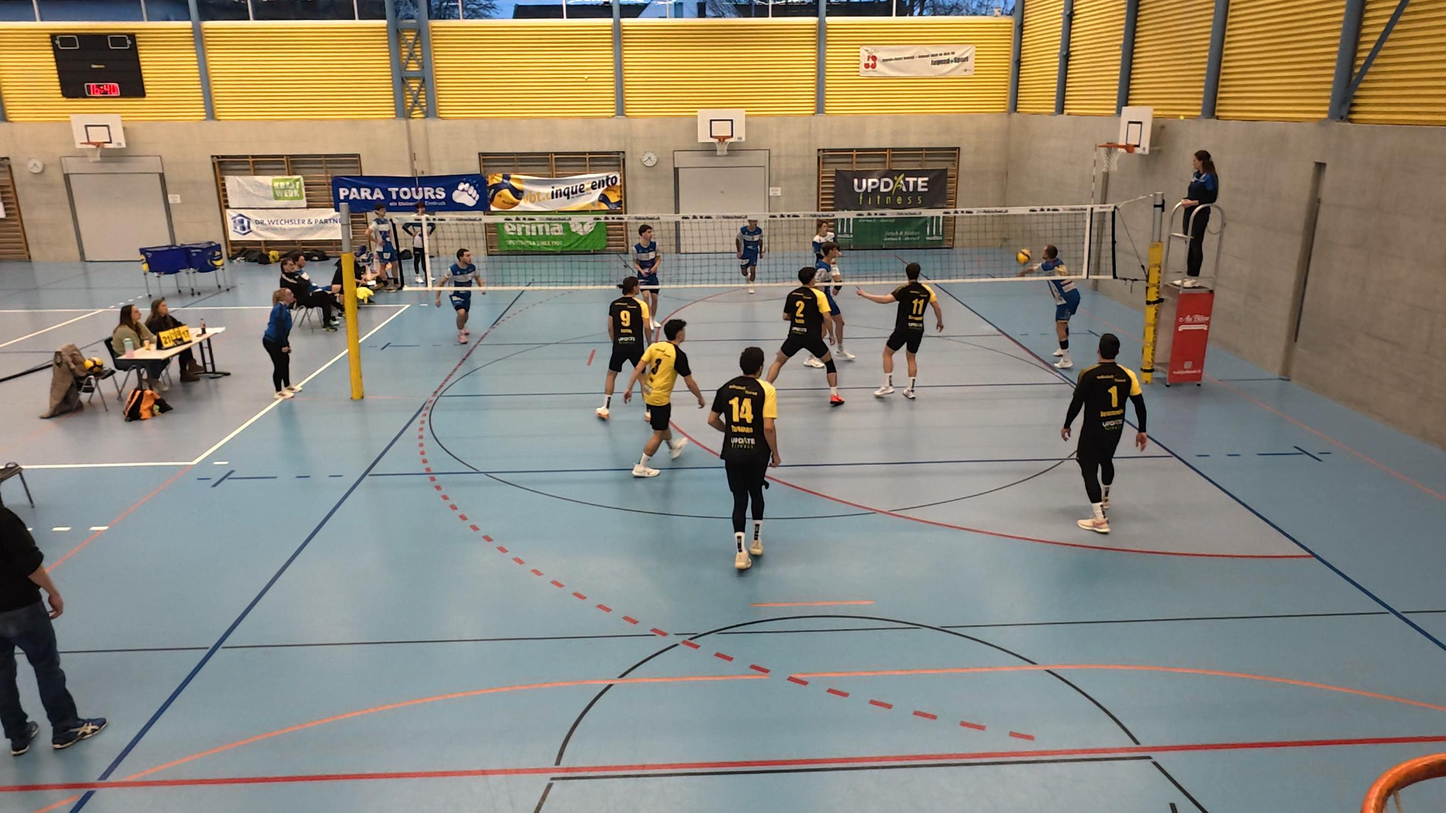Player: (1061, 334, 1145, 534), (710, 345, 779, 574), (854, 262, 943, 403), (630, 316, 703, 477), (769, 267, 846, 407), (596, 276, 654, 418), (803, 244, 852, 364), (448, 246, 486, 344), (734, 215, 764, 297), (632, 224, 662, 296), (812, 216, 842, 280)
Set: (1032, 245, 1080, 373)
ball: (1016, 247, 1036, 265)
